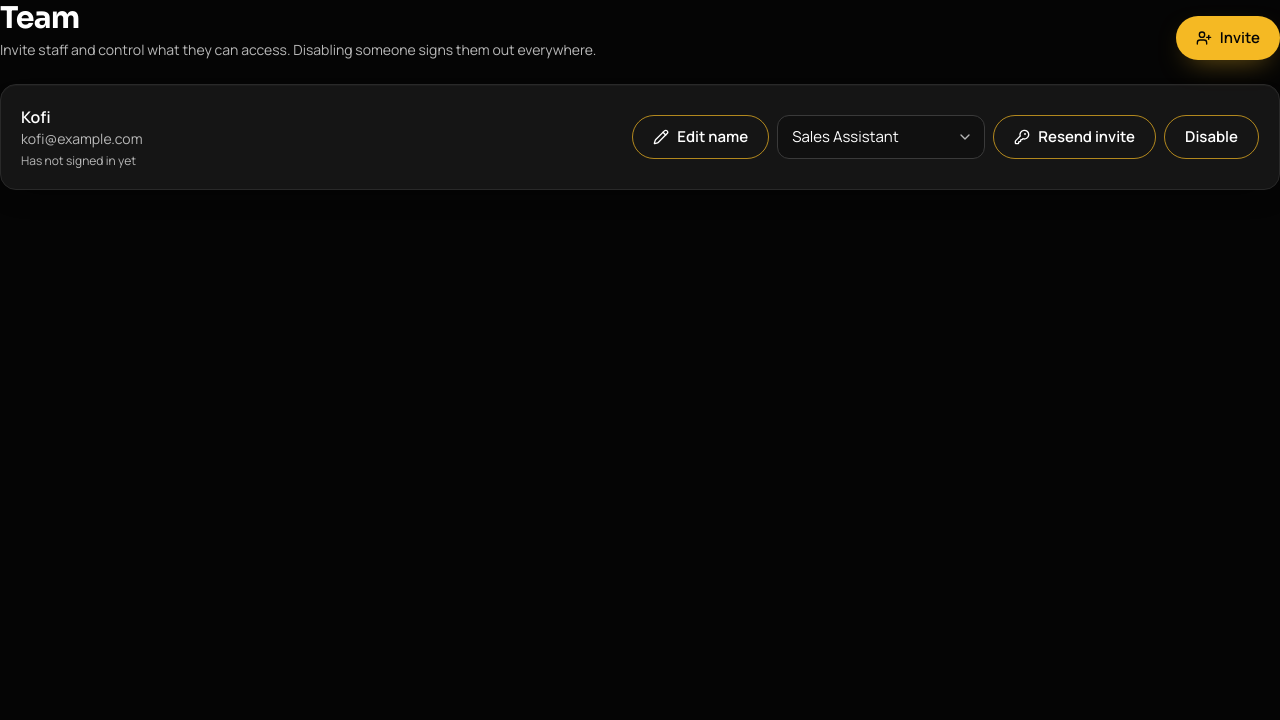
it: TeamPage › lets a team member be renamed
This screenshot has width=1280, height=720.
Click the button with aria-label "Edit name for Kofi": [701, 137] box x1=632 y1=115 x2=769 y2=159
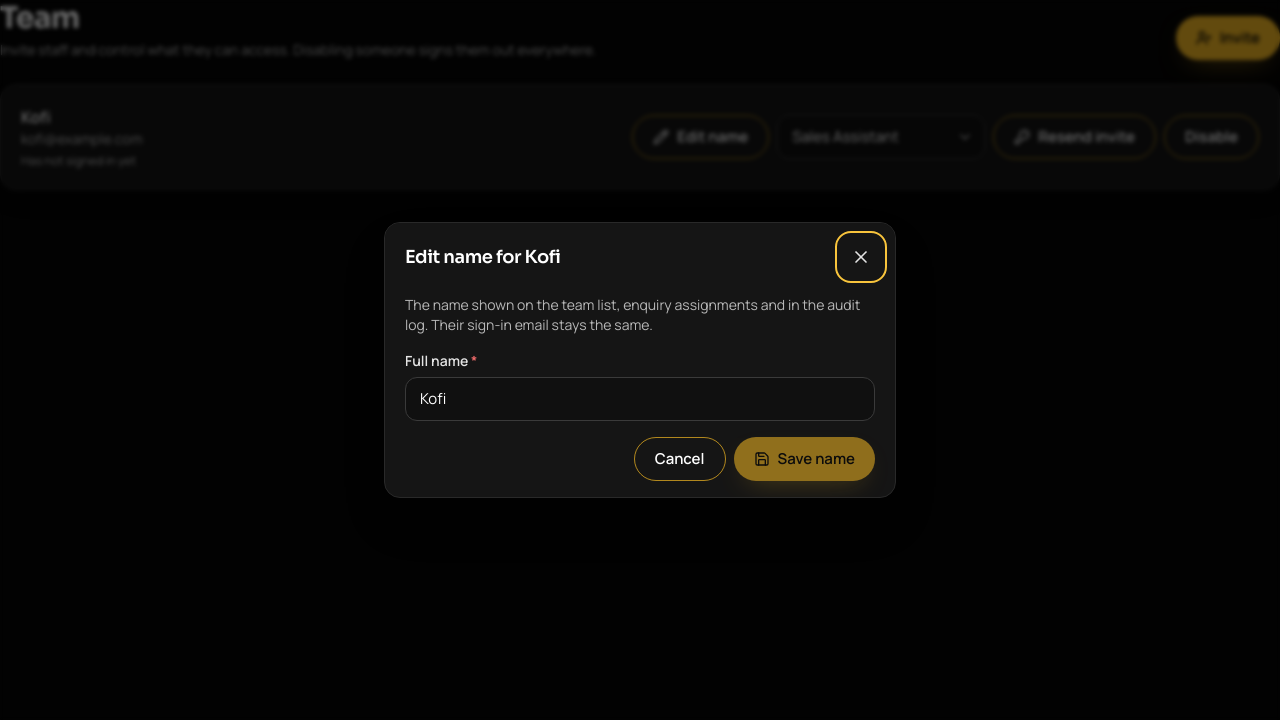
Replace the text in the field labelled "Full name *" with "Kofi Mensah": [640, 399] box x1=405 y1=377 x2=875 y2=421
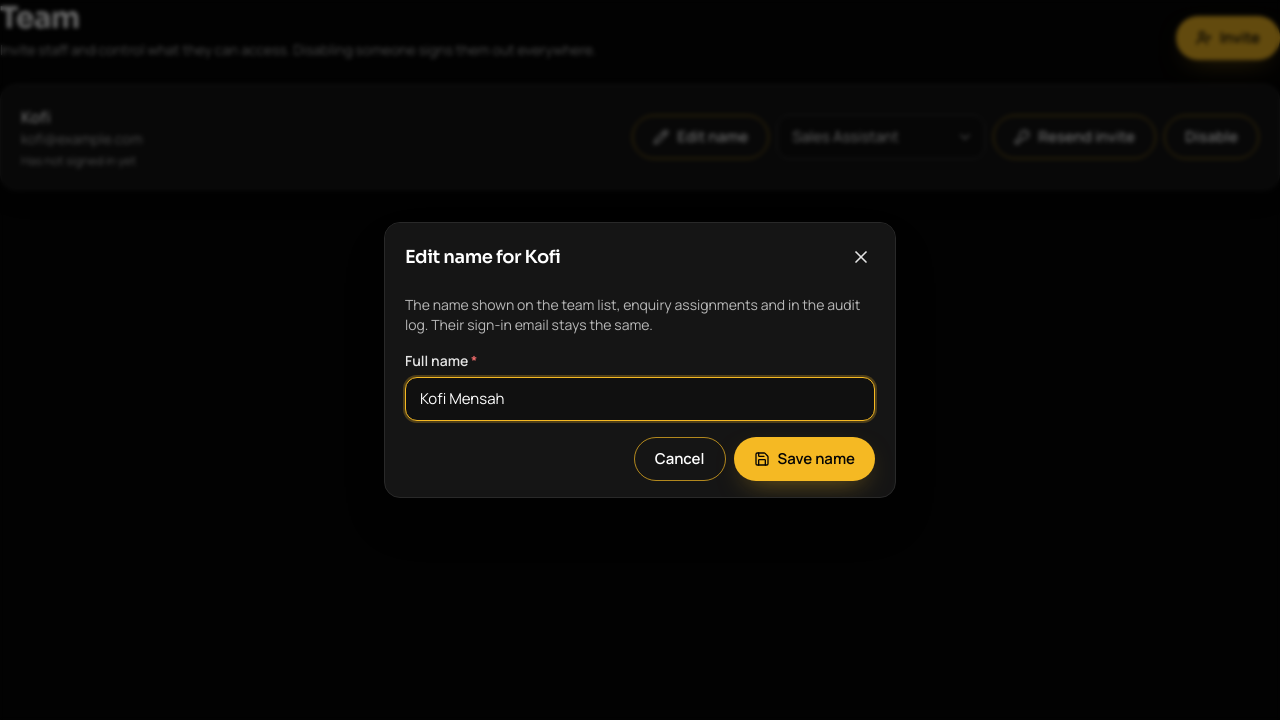
Click the button "Save name": [804, 459] box x1=734 y1=437 x2=875 y2=481
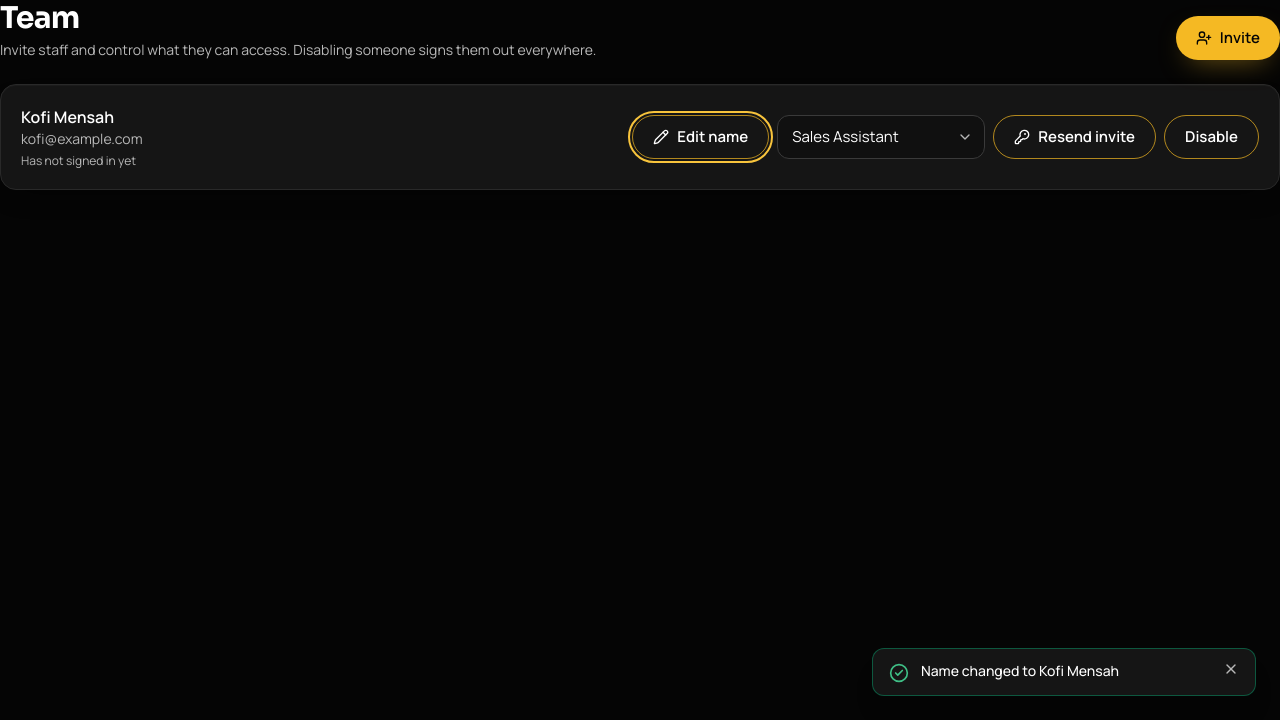
Expected: the text "Kofi Mensah" is shown, x1=21 y1=105 x2=114 y2=129
